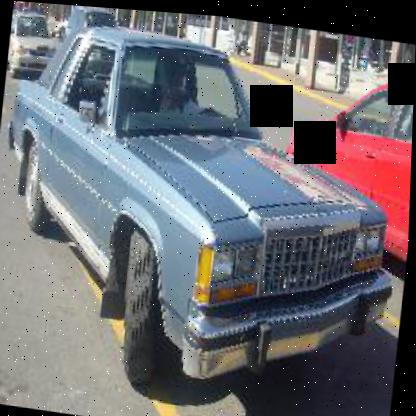not_emergency: (0, 13, 415, 395)
